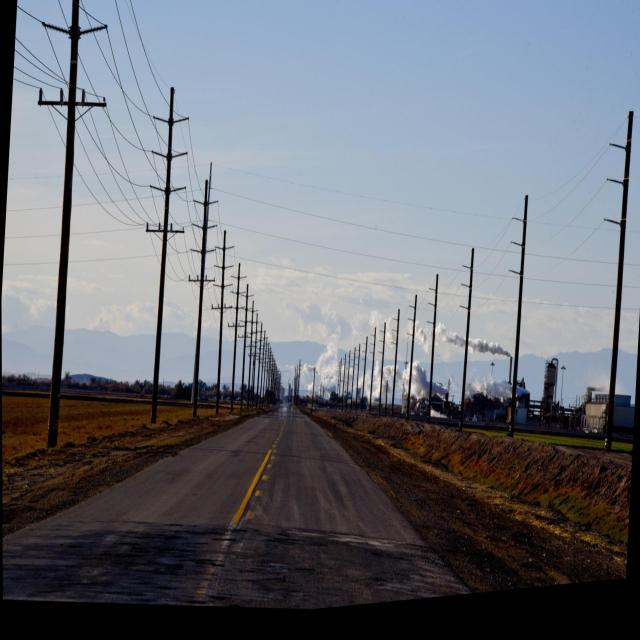pole: (43, 207, 81, 458), (148, 252, 164, 428)
